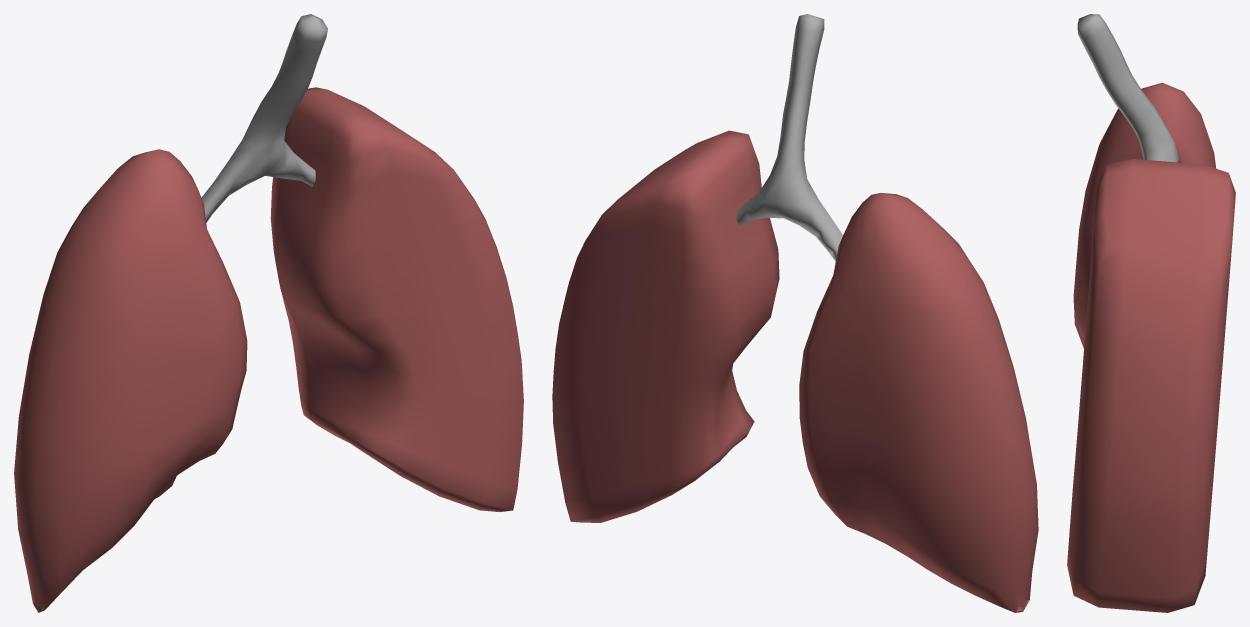
File: lungs 1.fbx
The picture shows the model from 3 angles, left to right: view 1: azimuth 30°, elevation 25°; view 2: azimuth 150°, elevation 25°; view 3: azimuth 270°, elevation 25°; orthographic projection. The views are drawn at different scales.
Parts seen in each view (by area): view 1: lungs_1; view 2: lungs_1; view 3: lungs_1.
Part boxes in pixels (bbox=[...]): lungs_1: bbox=[14, 14, 523, 612]; lungs_1: bbox=[552, 14, 1038, 612]; lungs_1: bbox=[1067, 14, 1235, 612].
Size of the model in its own units: 26.29 by 28.6 by 8.58.
